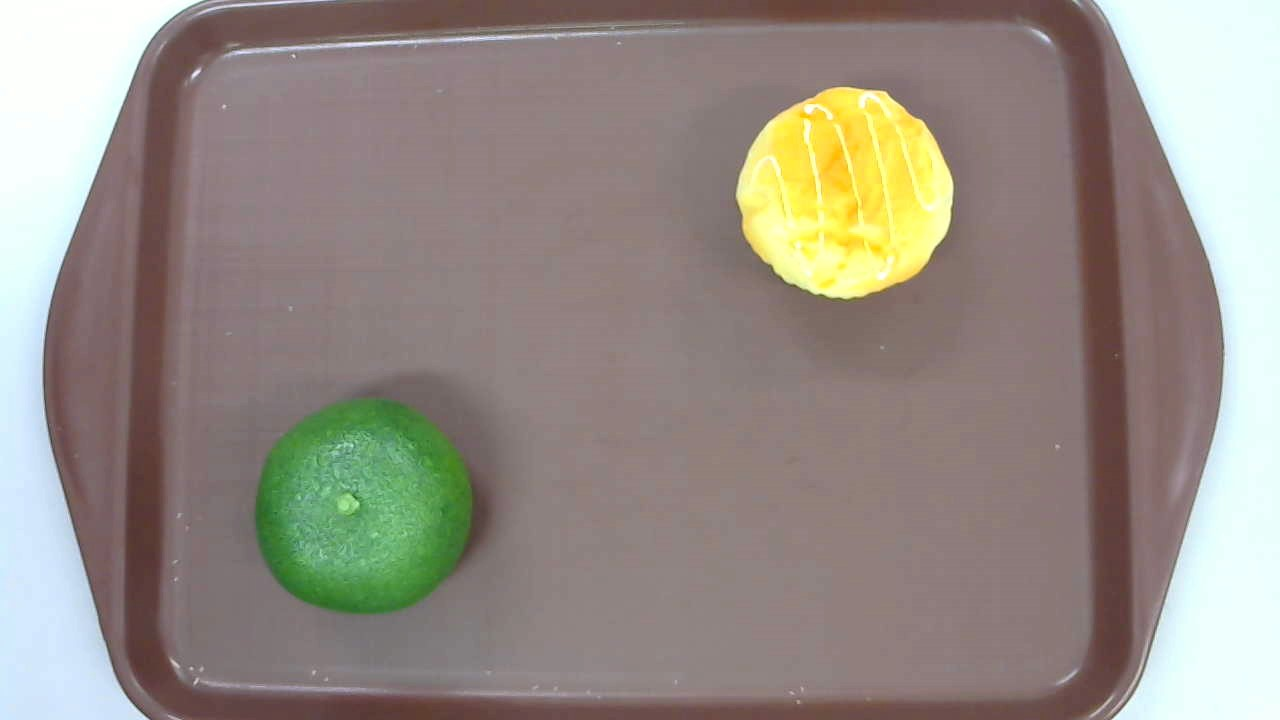cupcake: (734, 85, 953, 303)
green orange: (253, 397, 472, 616)
